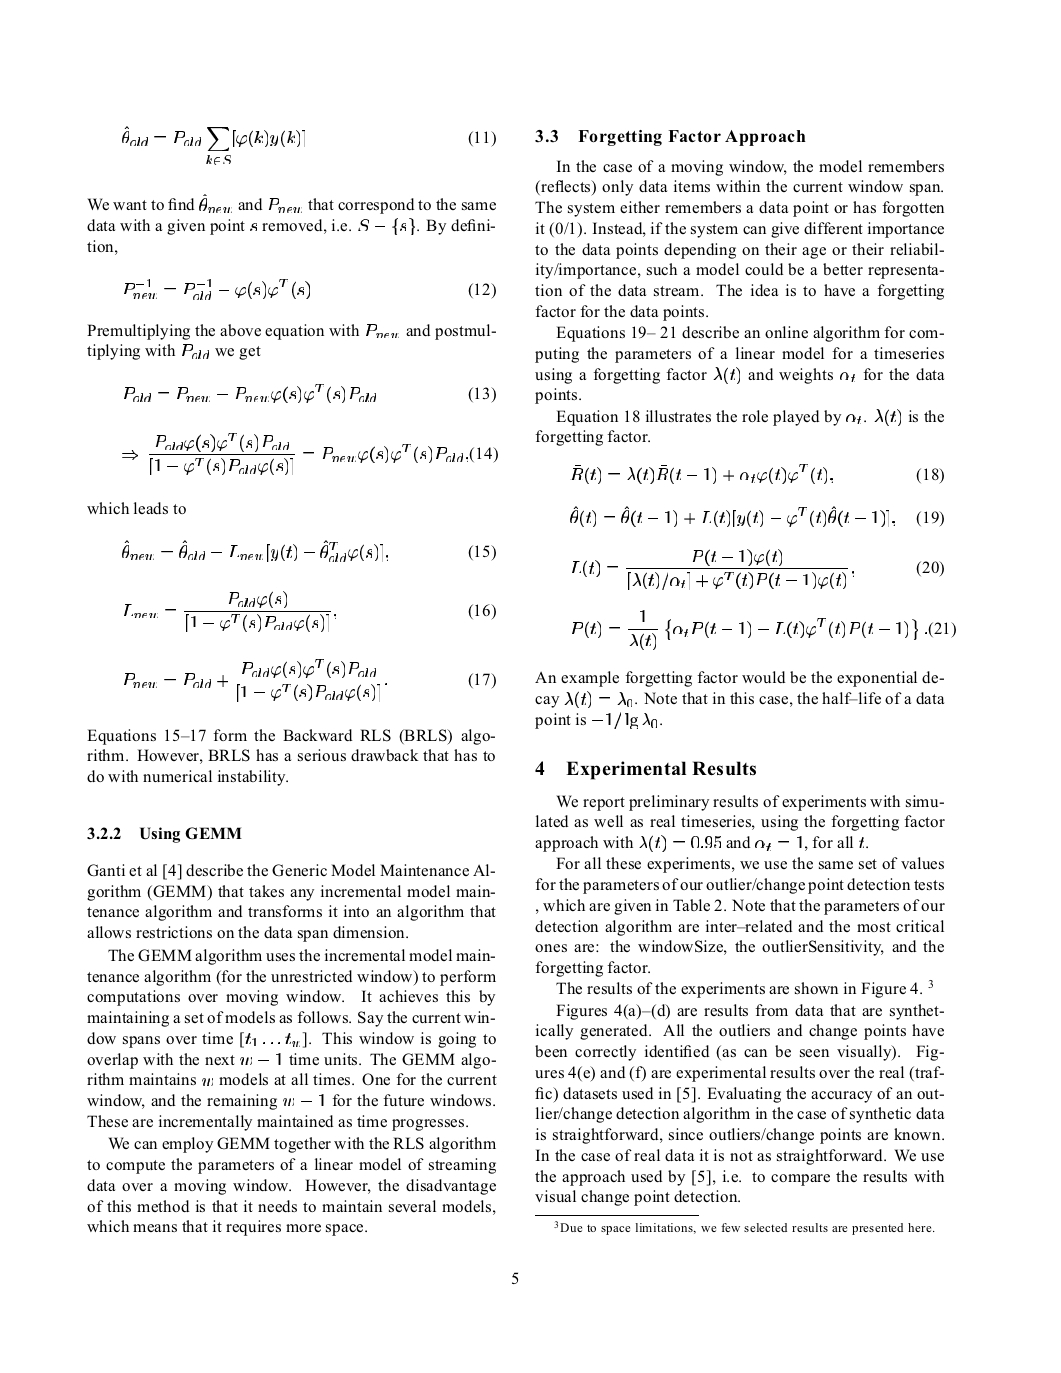formula: (124, 658, 495, 702), (121, 432, 497, 475), (572, 608, 955, 650), (124, 590, 495, 632), (572, 548, 943, 590), (121, 126, 495, 164), (121, 539, 495, 562), (570, 505, 943, 527), (124, 277, 495, 300), (570, 462, 943, 484), (124, 382, 495, 403)
